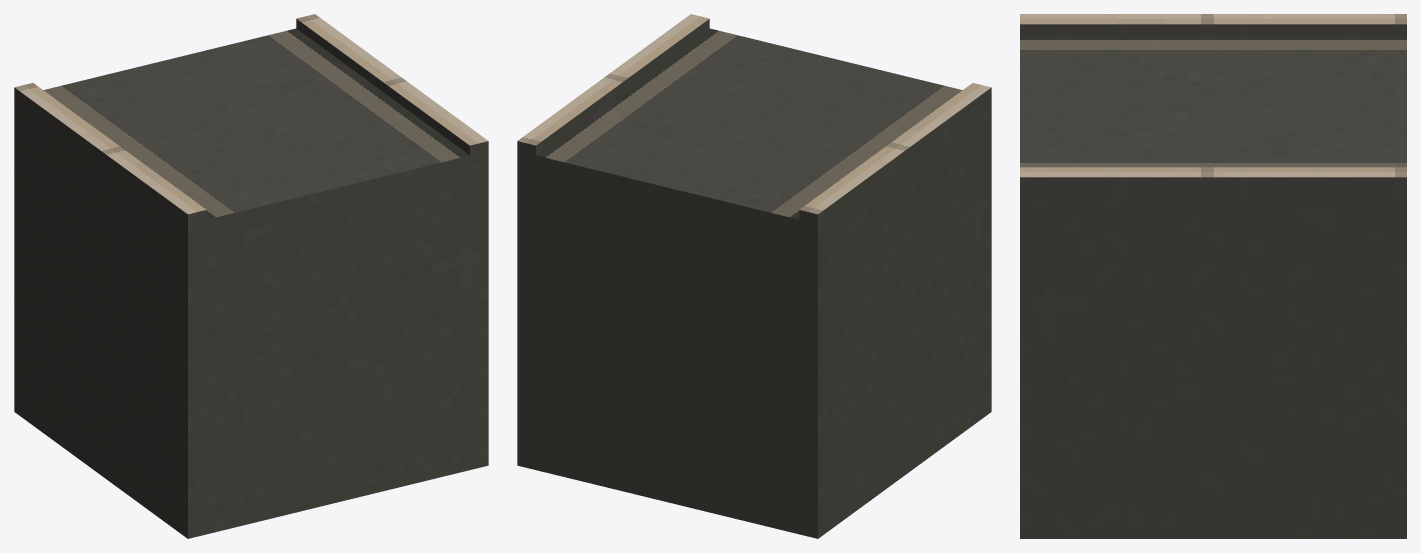
The model's file is road_asphalt_to_sidewalk_strip.gltf.
3 views of the same model, side by side, from view 1: azimuth 30°, elevation 25°; view 2: azimuth 150°, elevation 25°; view 3: azimuth 270°, elevation 25° (orthographic). The views are drawn at different scales.
Visible parts, largest first — view 1: block_sides, transition_top; view 2: block_sides, transition_top; view 3: block_sides, transition_top.
Boxes of the visible parts, x1,y1,x2,y2 form: block_sides: (14,19,488,538); transition_top: (15,14,487,219); block_sides: (517,19,991,538); transition_top: (518,14,990,219); block_sides: (1020,24,1406,538); transition_top: (1020,14,1406,177).
Size of the model in its own units: 2 by 2.06 by 2.
2 materials, 2 textured.
